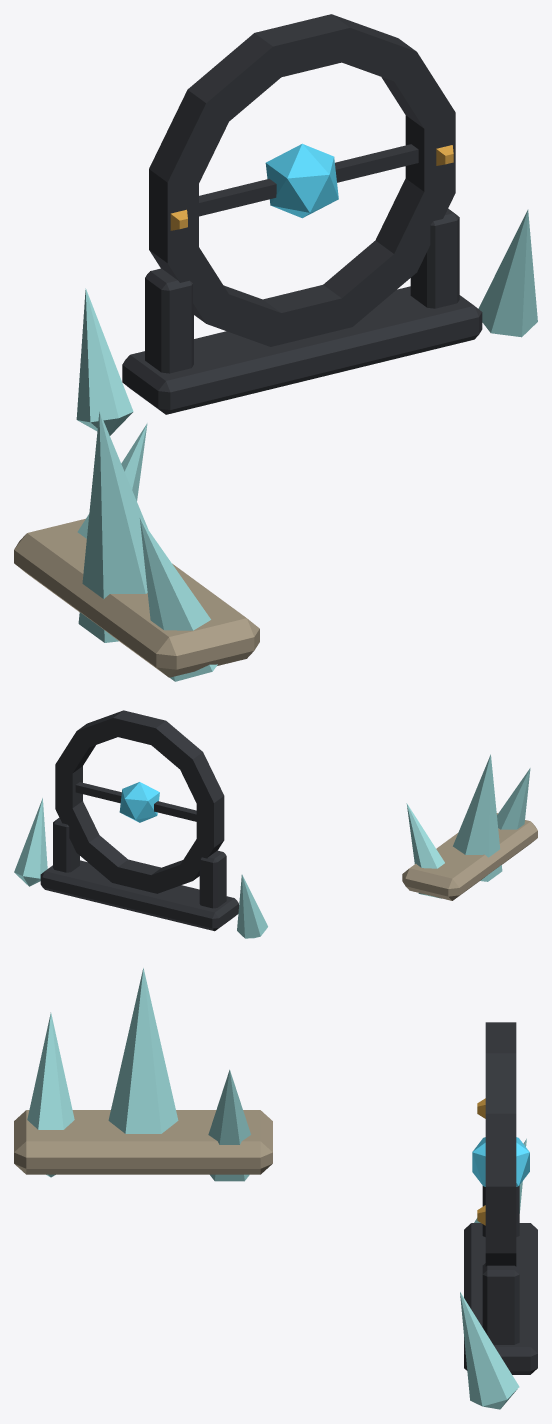
File: TeslaDressB2.obj
The picture shows the model from 3 angles, top to bottom: view 1: azimuth 30°, elevation 25°; view 2: azimuth 150°, elevation 25°; view 3: azimuth 270°, elevation 25°; orthographic projection. The views are drawn at different scales.
Visible parts, largest first — view 1: TeslaDressB2; view 2: TeslaDressB2; view 3: TeslaDressB2.
Boxes of the visible parts, x1,y1,x2,y2 form: TeslaDressB2: (14,14,537,681); TeslaDressB2: (14,710,537,938); TeslaDressB2: (14,968,537,1409).
Bounding box in the file's own units: 1.02 × 0.5218 × 0.85.
